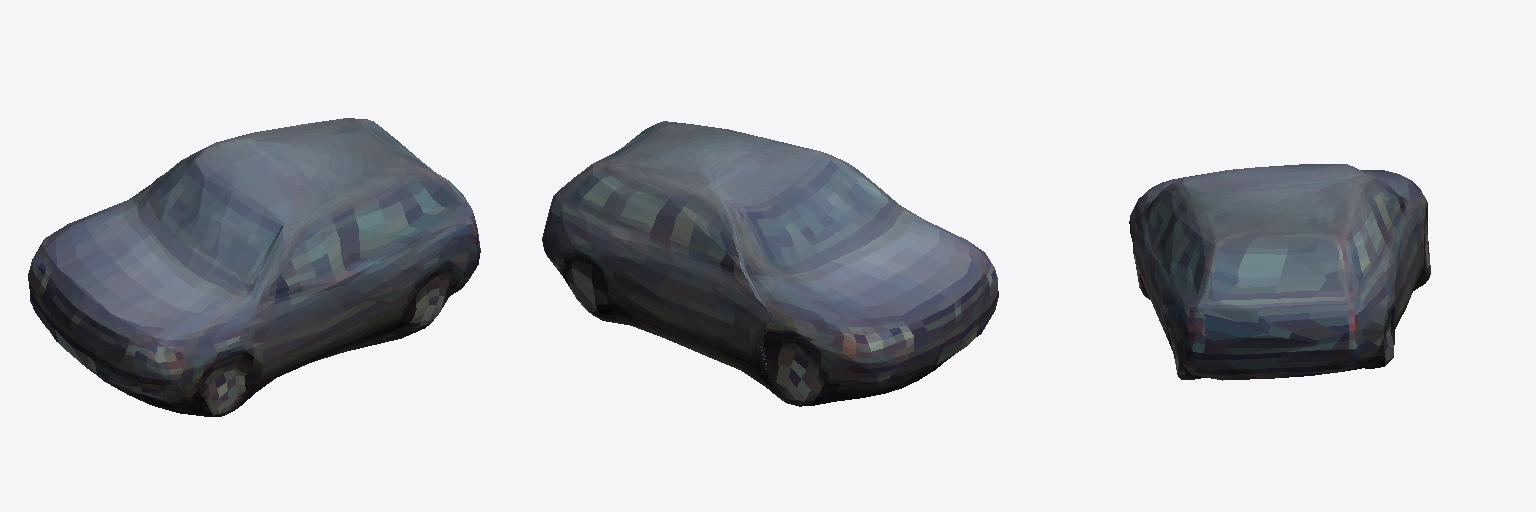
3 views of the same model, side by side, from view 1: azimuth 30°, elevation 25°; view 2: azimuth 150°, elevation 25°; view 3: azimuth 270°, elevation 25° (orthographic).
Bounding box in the file's own units: 1 × 0.4421 × 0.689.
Materials: 1 (1 with a texture image).